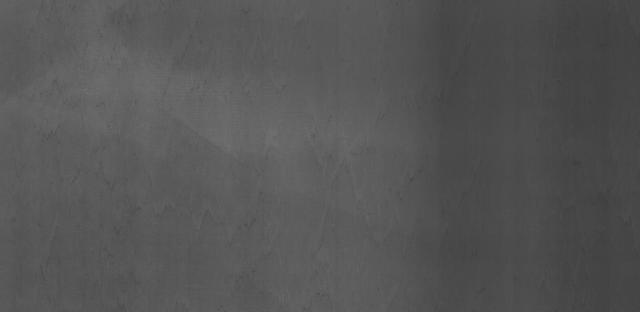silk_spot: (234, 116, 420, 266)
